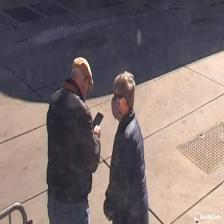person: (46, 56, 100, 224), (103, 69, 149, 224)
